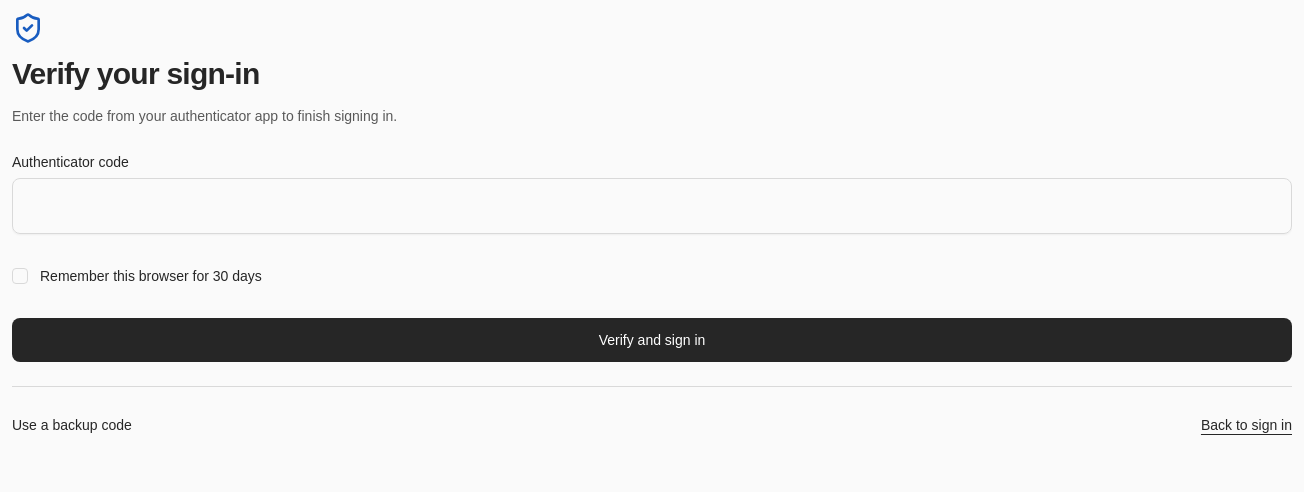
Test case: second-factor login › keeps an invalid code on the challenge rather than treating 401 as logout
The width and height of the screenshot is (1304, 492).
In the field labelled "Authenticator code": (652,206) [12,178,1292,234], type "123456"
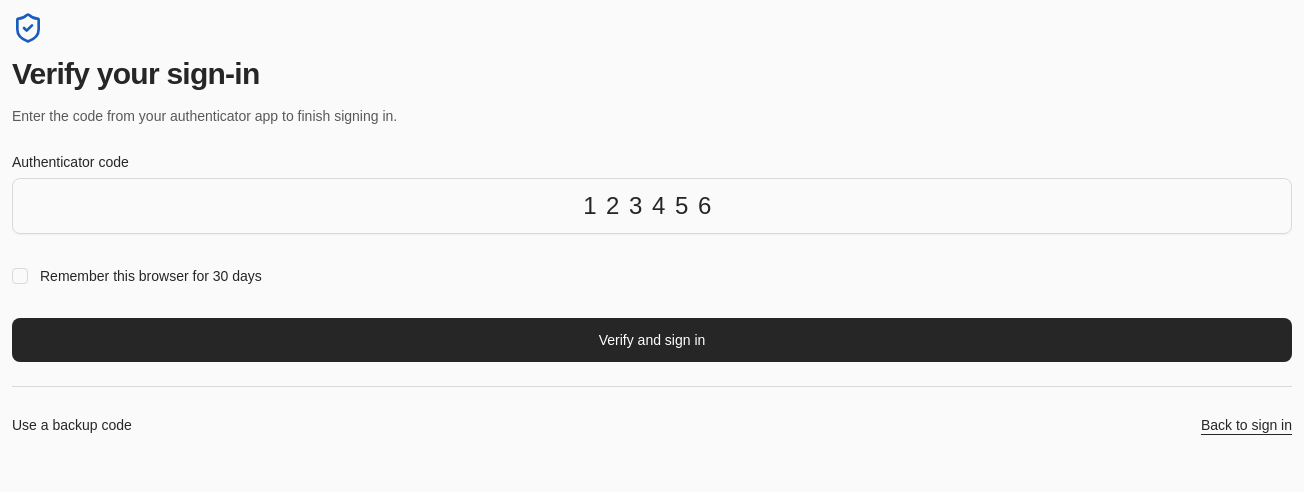
Click the button "Verify and sign in": (652,340) [12,318,1292,362]
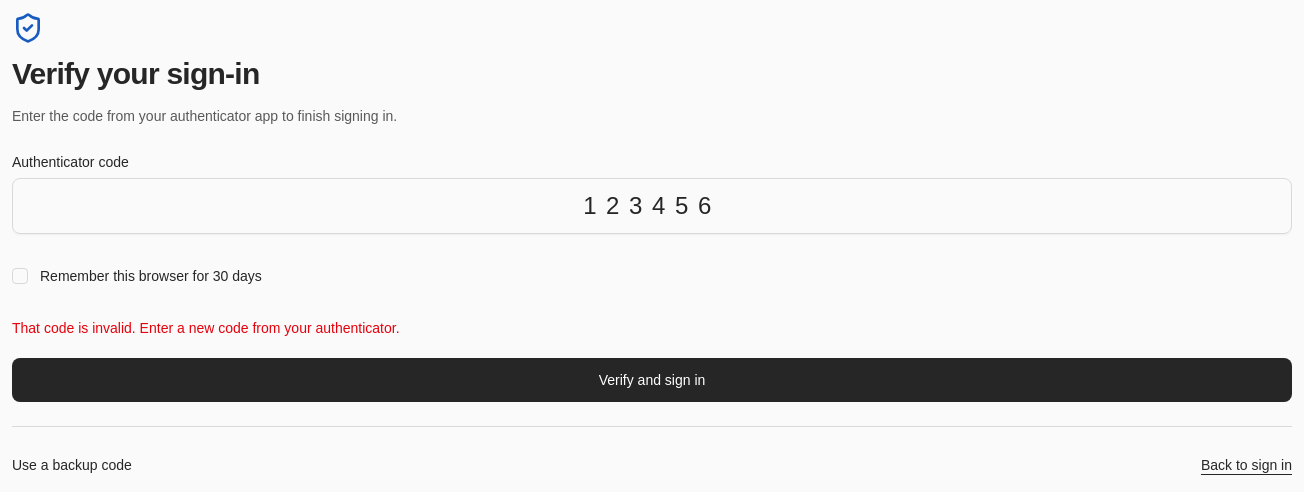
Check: the message shows "That code is invalid", box [12,320,400,336]
